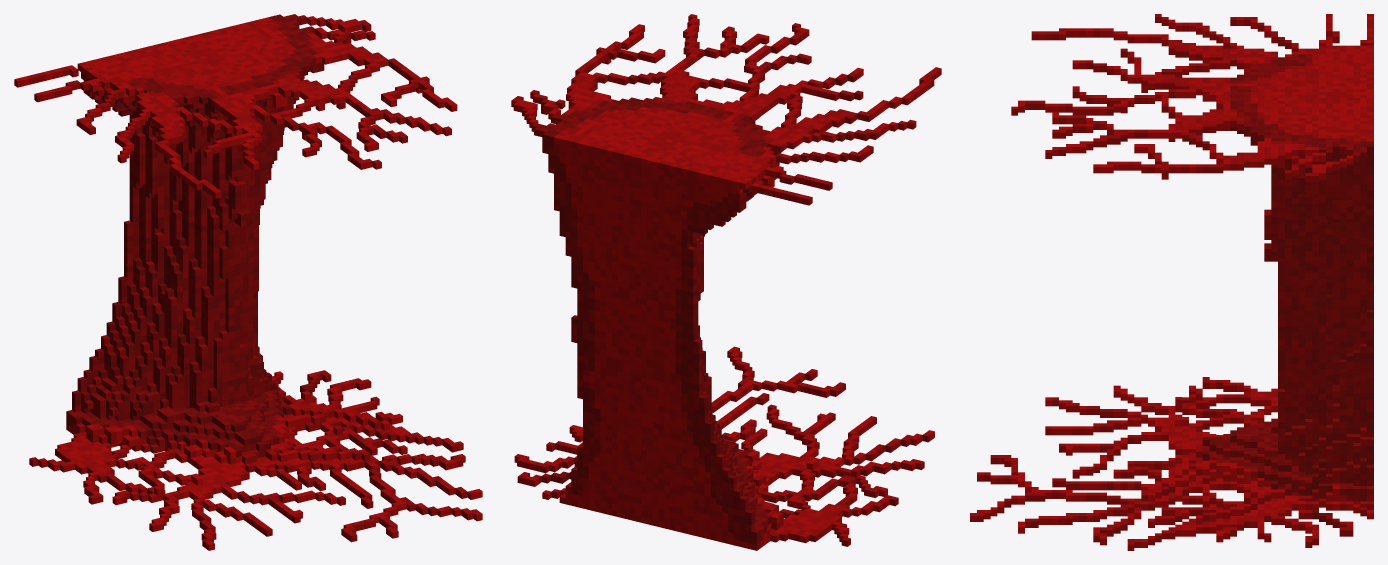
The model's file is Bines-5.obj.
3 renders of one model, left to right at view 1: azimuth 30°, elevation 25°; view 2: azimuth 150°, elevation 25°; view 3: azimuth 270°, elevation 25°, orthographic. The views are drawn at different scales.
Bounding box in the file's own units: 5.9 × 6 × 5.9.
Materials: 1 (1 with a texture image).
